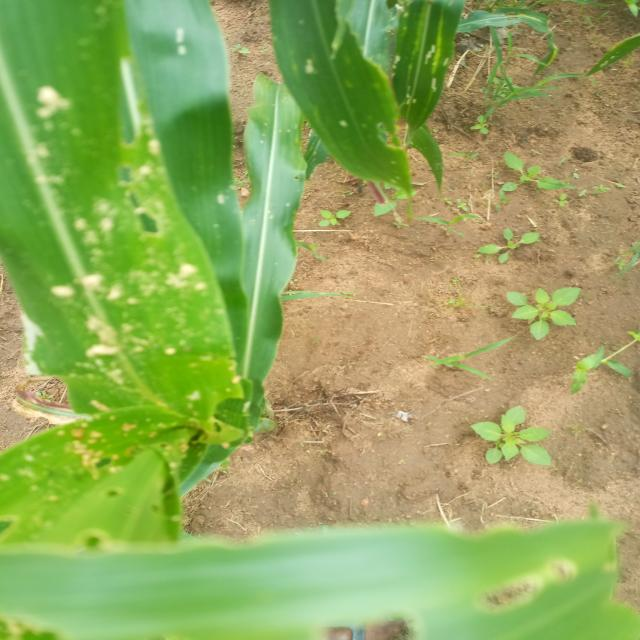fall-armyworm-egg: (44, 253, 211, 391)
fall-armyworm-frass: (52, 412, 143, 502)
fall-armyworm-larval-damage: (0, 494, 627, 639), (206, 0, 446, 183)
